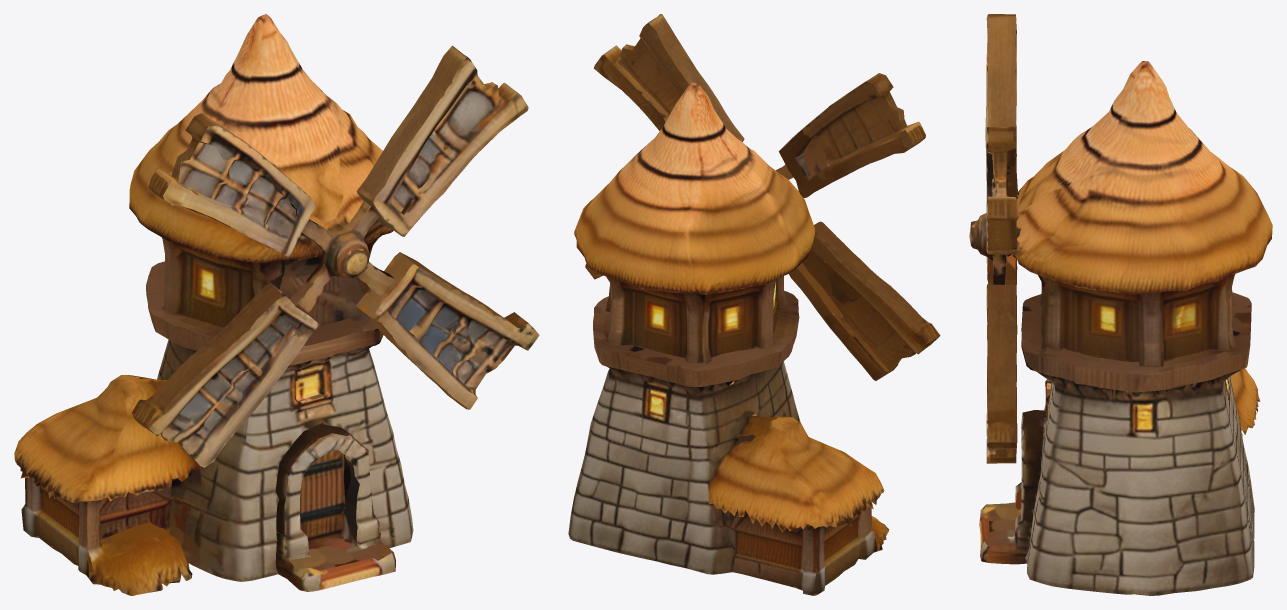
Rendered from 1st-windmill_of_x.glb.
3 renders of one model, left to right at view 1: azimuth 30°, elevation 25°; view 2: azimuth 150°, elevation 25°; view 3: azimuth 270°, elevation 25°, orthographic. The views are drawn at different scales.
Visible parts, largest first — view 1: world_0; view 2: world_0; view 3: world_0.
Boxes of the visible parts, bbox=[...] form: world_0: bbox=[14, 14, 539, 595]; world_0: bbox=[568, 14, 940, 595]; world_0: bbox=[969, 14, 1272, 595].
Size of the model in its own units: 0.8292 by 0.9874 by 0.5656.
1 material, 1 textured.
